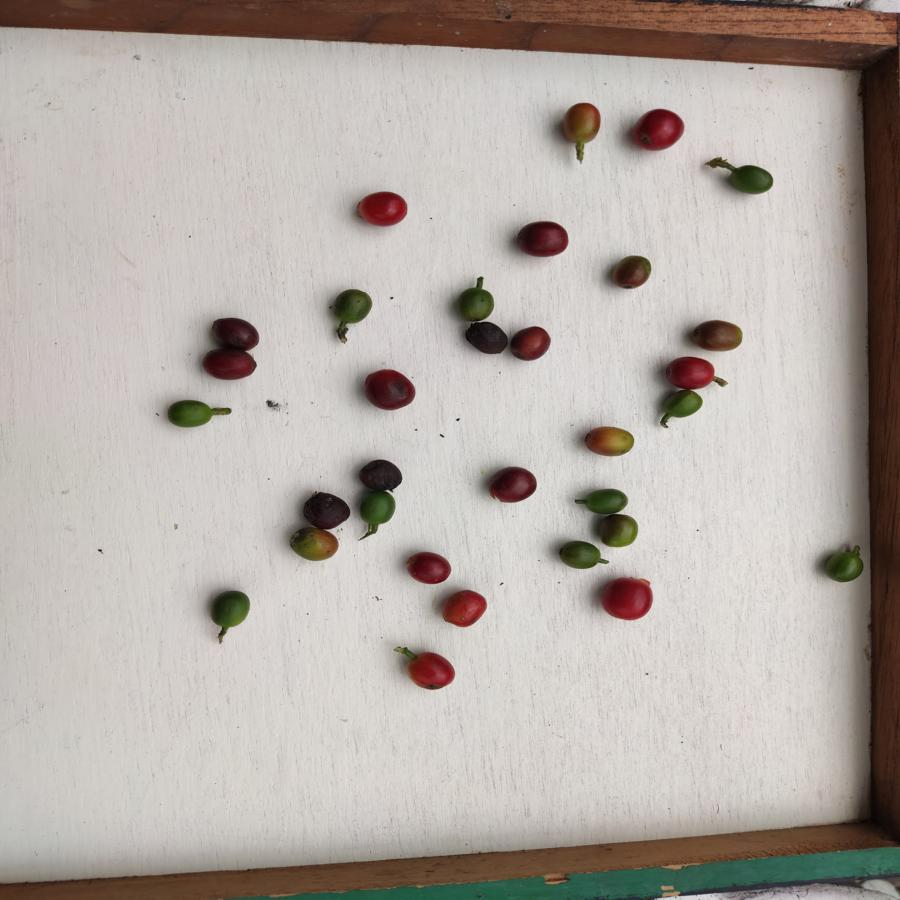Inmaduro: (327, 287, 376, 325), (210, 586, 250, 632), (658, 386, 706, 419), (166, 397, 215, 429), (355, 489, 397, 526), (822, 547, 865, 583), (727, 162, 774, 194), (555, 538, 603, 569), (455, 288, 500, 321), (579, 488, 627, 517)
Maduro: (599, 575, 656, 624), (628, 108, 685, 155), (438, 590, 495, 630), (403, 649, 456, 691), (664, 355, 717, 392), (355, 189, 407, 225)
Pinton: (555, 101, 603, 145), (580, 424, 635, 460), (688, 319, 747, 352), (285, 527, 339, 561), (611, 252, 654, 289), (598, 514, 641, 548)
Sobremaduro: (363, 367, 417, 409), (299, 489, 352, 531), (513, 220, 568, 258), (199, 348, 258, 383), (491, 467, 543, 504), (208, 317, 262, 352), (401, 550, 454, 585), (463, 319, 509, 356), (510, 322, 550, 364), (356, 457, 403, 492)
